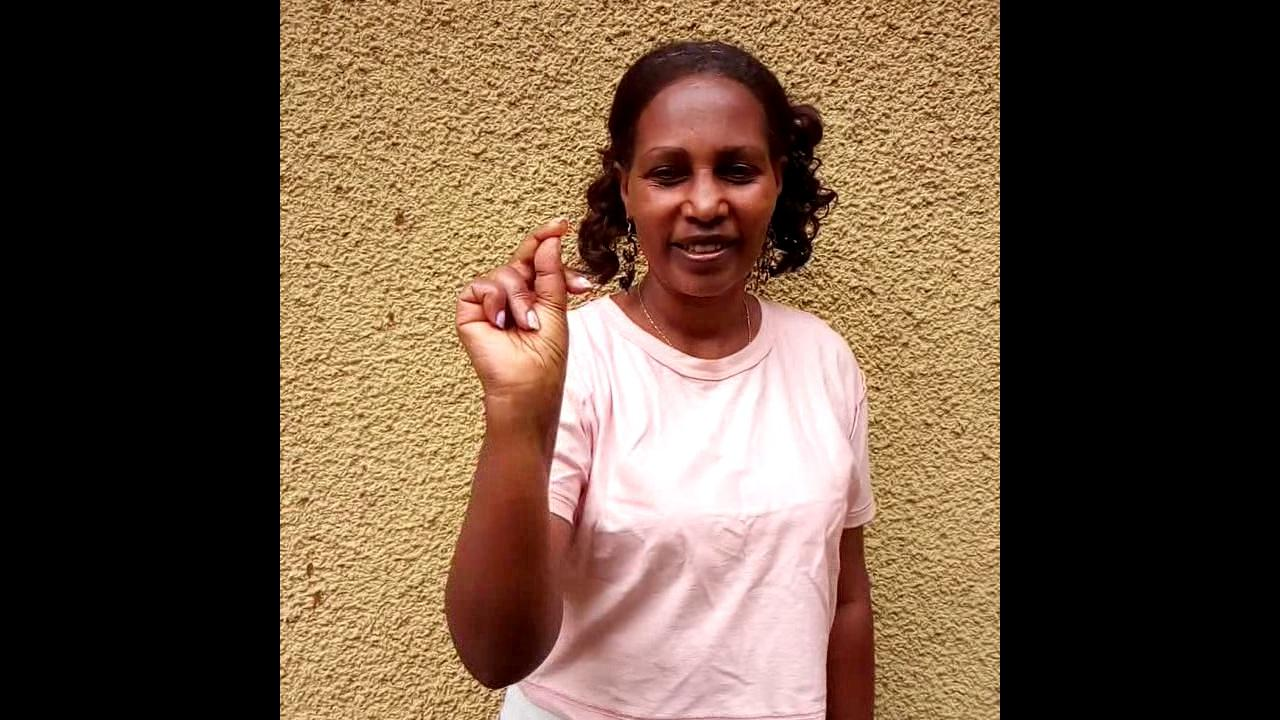CHE: (456, 220, 593, 489)
